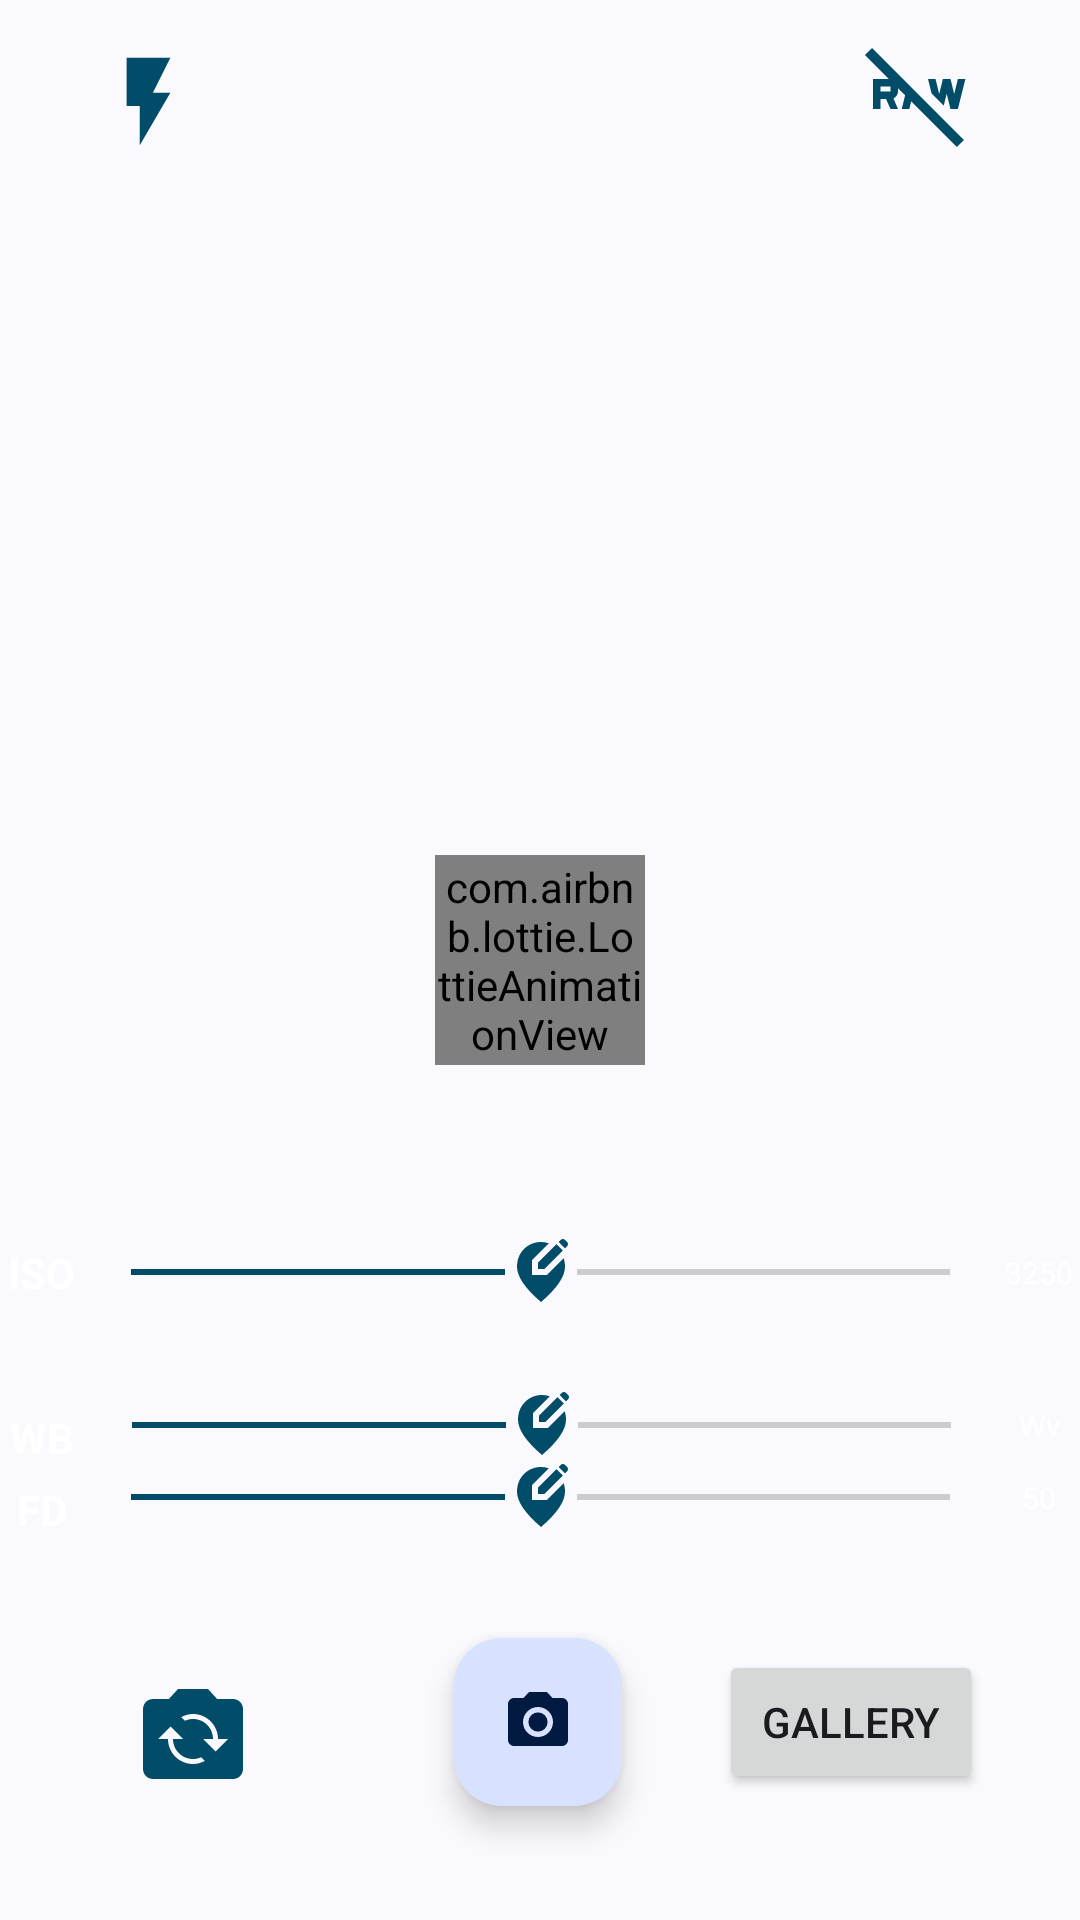

Icons on this 1080*1920 Android screen, each with the point to tap as [x,y]:
camflip: [193,1734]
flash on: [148,101]
photo camera: [538,1722]
raw off: [915,97]
